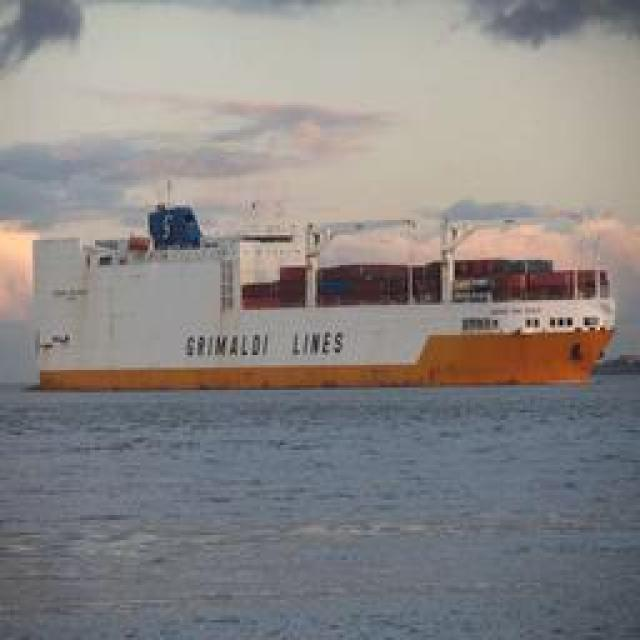CIV_Ship: (22, 198, 620, 400)
